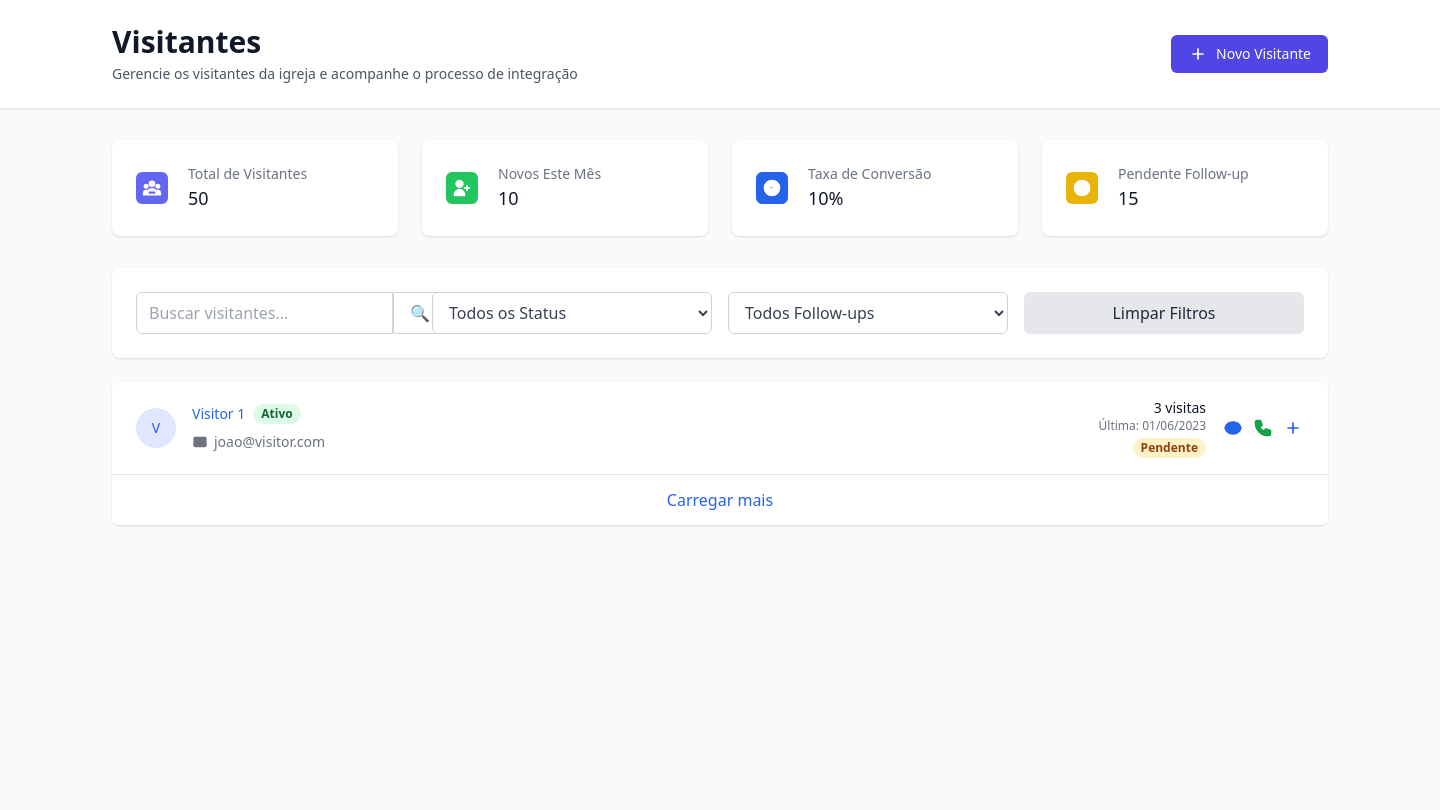
Scenario: VisitorsPage › Pagination › should load more visitors when clicking load more button
Expected: the text "Visitor 1" is shown, [192,404,245,424]
Click the button "Carregar mais" at (720, 500), box [666,487,774,513]
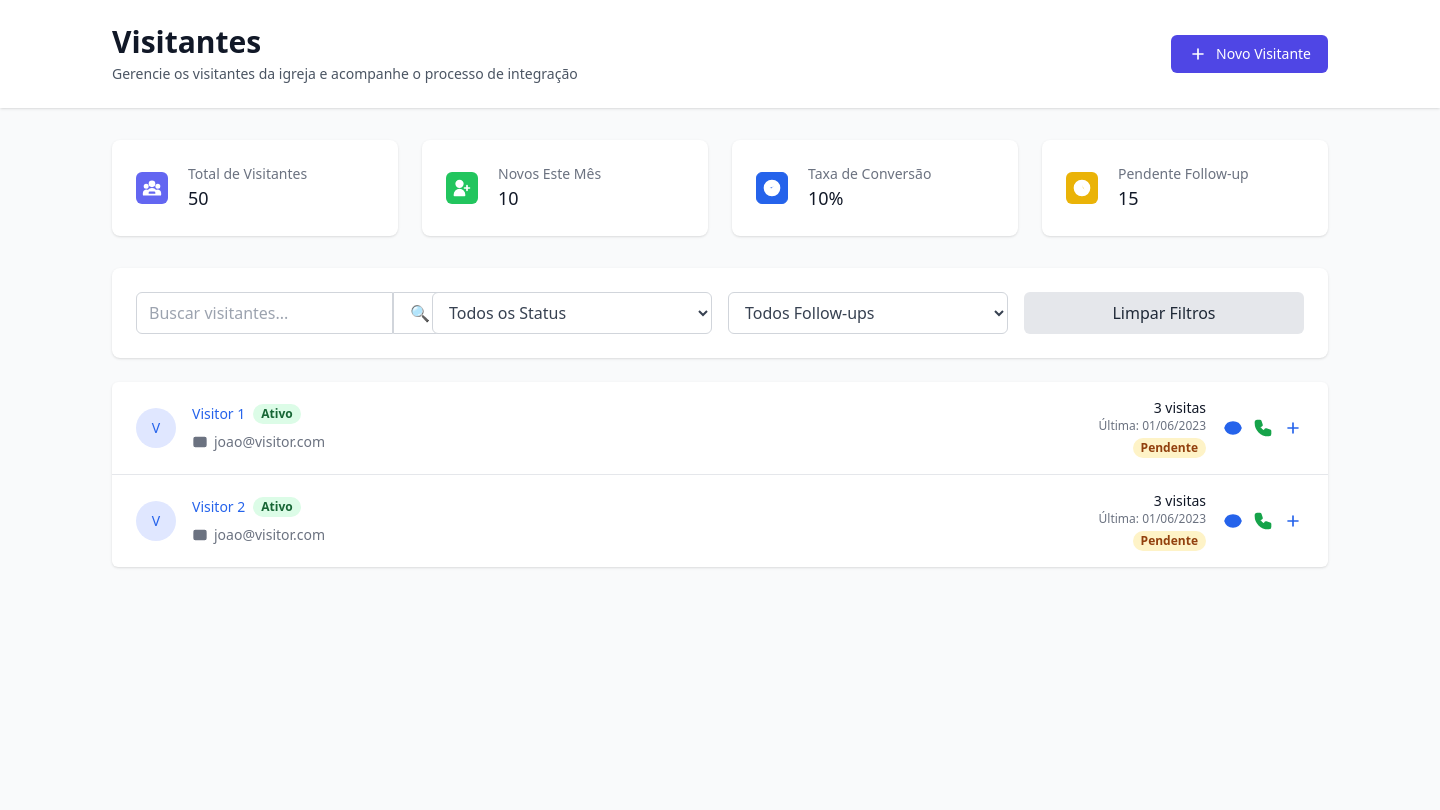
Expected: the text "Visitor 1" is shown, [192,404,245,424]
Result: the text "Visitor 2" is shown at [192,497,245,517]
